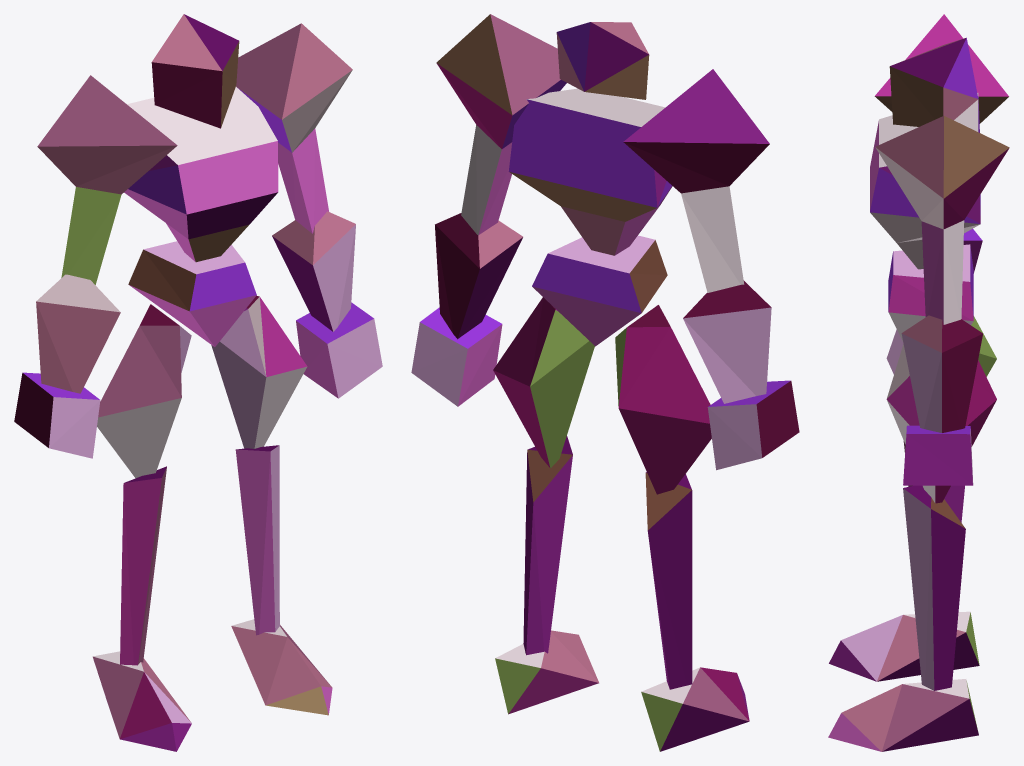
File: cfpoly.obj
3 views of the same model, side by side, from view 1: azimuth 30°, elevation 25°; view 2: azimuth 150°, elevation 25°; view 3: azimuth 270°, elevation 25° (orthographic). The views are drawn at different scales.
Parts seen in each view (by area): view 1: Nemu_60999451_0_051, Nemu_60999451_0_056, Nemu_60999451_0_052, Nemu_60999451_0_062, Nemu_60999451_0_059, Nemu_60999451_0_050, Nemu_60999451_0_055, Nemu_60999451_0_057, Nemu_60999451_0_060, Nemu_60999451_0_053, Nemu_60999451_0_063, Nemu_60999451_0_064 (+3 smaller); view 2: Nemu_60999451_0_051, Nemu_60999451_0_056, Nemu_60999451_0_052, Nemu_60999451_0_062, Nemu_60999451_0_059, Nemu_60999451_0_050, Nemu_60999451_0_063, Nemu_60999451_0_057, Nemu_60999451_0_060, Nemu_60999451_0_053, Nemu_60999451_0_055, Nemu_60999451_0_064 (+3 smaller); view 3: Nemu_60999451_0_052, Nemu_60999451_0_060, Nemu_60999451_0_061, Nemu_60999451_0_053, Nemu_60999451_0_055, Nemu_60999451_0_064, Nemu_60999451_0_051, Nemu_60999451_0_054, Nemu_60999451_0_050, Nemu_60999451_0_059, Nemu_60999451_0_056, Nemu_60999451_0_062 (+2 smaller).
Part boxes in pixels (bbox=[...]): Nemu_60999451_0_051: bbox=[124, 87, 278, 262]; Nemu_60999451_0_056: bbox=[37, 75, 177, 284]; Nemu_60999451_0_052: bbox=[236, 23, 352, 233]; Nemu_60999451_0_062: bbox=[97, 304, 191, 478]; Nemu_60999451_0_059: bbox=[211, 295, 307, 448]; Nemu_60999451_0_050: bbox=[128, 241, 256, 346]; Nemu_60999451_0_055: bbox=[151, 14, 239, 128]; Nemu_60999451_0_057: bbox=[36, 274, 120, 393]; Nemu_60999451_0_060: bbox=[235, 445, 279, 635]; Nemu_60999451_0_053: bbox=[272, 211, 355, 331]; Nemu_60999451_0_063: bbox=[120, 466, 166, 665]; Nemu_60999451_0_064: bbox=[92, 651, 191, 751]; Nemu_60999451_0_051: bbox=[508, 88, 672, 255]; Nemu_60999451_0_056: bbox=[623, 69, 769, 292]; Nemu_60999451_0_052: bbox=[436, 14, 566, 235]; Nemu_60999451_0_062: bbox=[615, 305, 711, 494]; Nemu_60999451_0_059: bbox=[493, 297, 594, 468]; Nemu_60999451_0_050: bbox=[532, 235, 667, 346]; Nemu_60999451_0_063: bbox=[645, 472, 692, 689]; Nemu_60999451_0_057: bbox=[683, 280, 771, 403]; Nemu_60999451_0_060: bbox=[523, 436, 572, 655]; Nemu_60999451_0_053: bbox=[435, 213, 522, 339]; Nemu_60999451_0_055: bbox=[556, 22, 649, 99]; Nemu_60999451_0_064: bbox=[641, 667, 749, 751]; Nemu_60999451_0_052: bbox=[875, 116, 1009, 324]; Nemu_60999451_0_060: bbox=[903, 485, 965, 690]; Nemu_60999451_0_061: bbox=[828, 679, 978, 751]; Nemu_60999451_0_053: bbox=[901, 315, 982, 432]; Nemu_60999451_0_055: bbox=[889, 37, 978, 126]; Nemu_60999451_0_064: bbox=[829, 611, 979, 681]; Nemu_60999451_0_051: bbox=[870, 93, 980, 269]; Nemu_60999451_0_054: bbox=[903, 425, 973, 485]; Nemu_60999451_0_050: bbox=[888, 244, 973, 341]; Nemu_60999451_0_059: bbox=[886, 344, 996, 503]; Nemu_60999451_0_056: bbox=[874, 14, 1008, 123]; Nemu_60999451_0_062: bbox=[886, 316, 996, 376].
Size of the model in its own units: 0.3422 by 0.656 by 0.1629.
